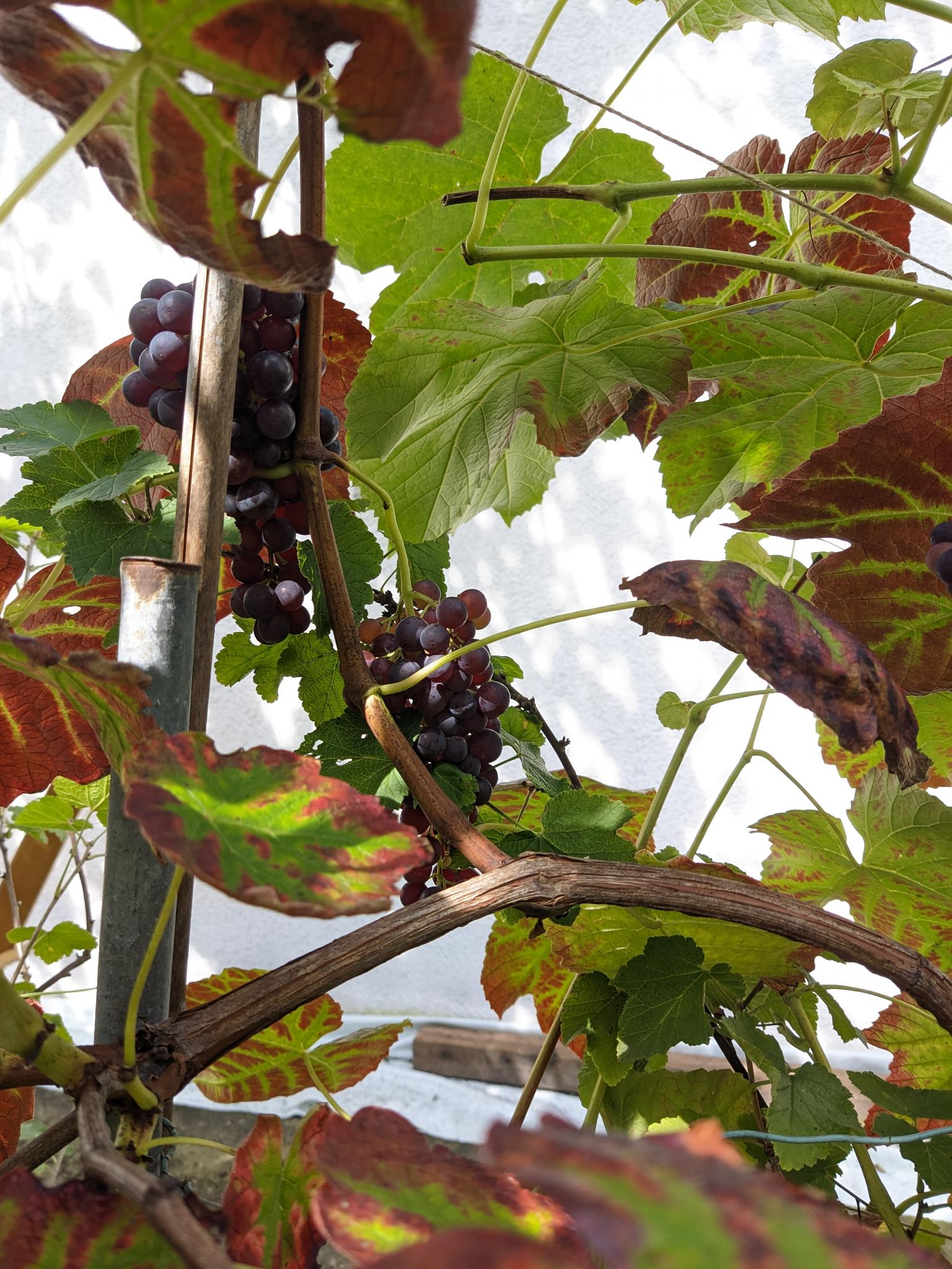Grape Ripe: (122, 279, 308, 592), (365, 597, 508, 872), (231, 587, 308, 640)
